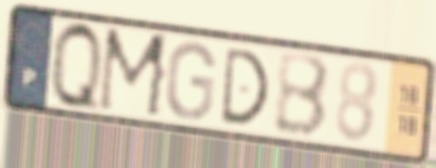8: (333, 60, 383, 149)
B: (272, 51, 333, 141)
D: (218, 44, 272, 127)
G: (162, 39, 218, 123)
M: (94, 25, 173, 122)
Q: (49, 17, 104, 118)
